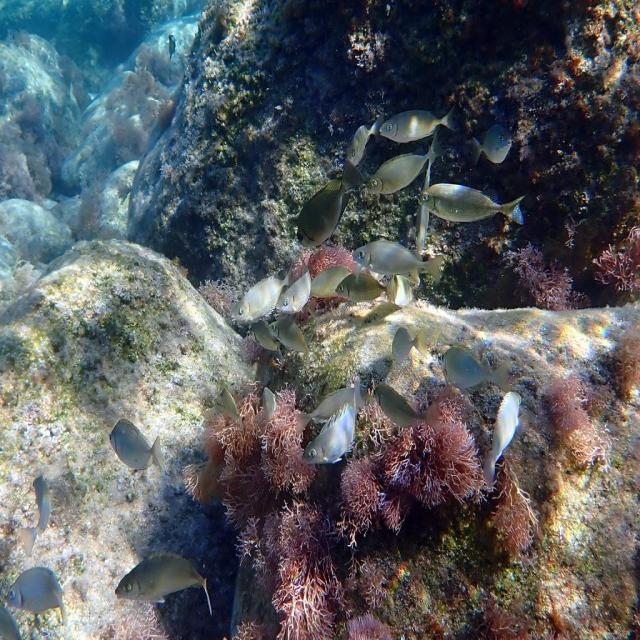Sokar Baligi: (107, 545, 229, 614), (416, 172, 524, 237), (478, 384, 536, 491), (349, 235, 448, 286), (378, 96, 475, 146), (101, 414, 172, 479)
